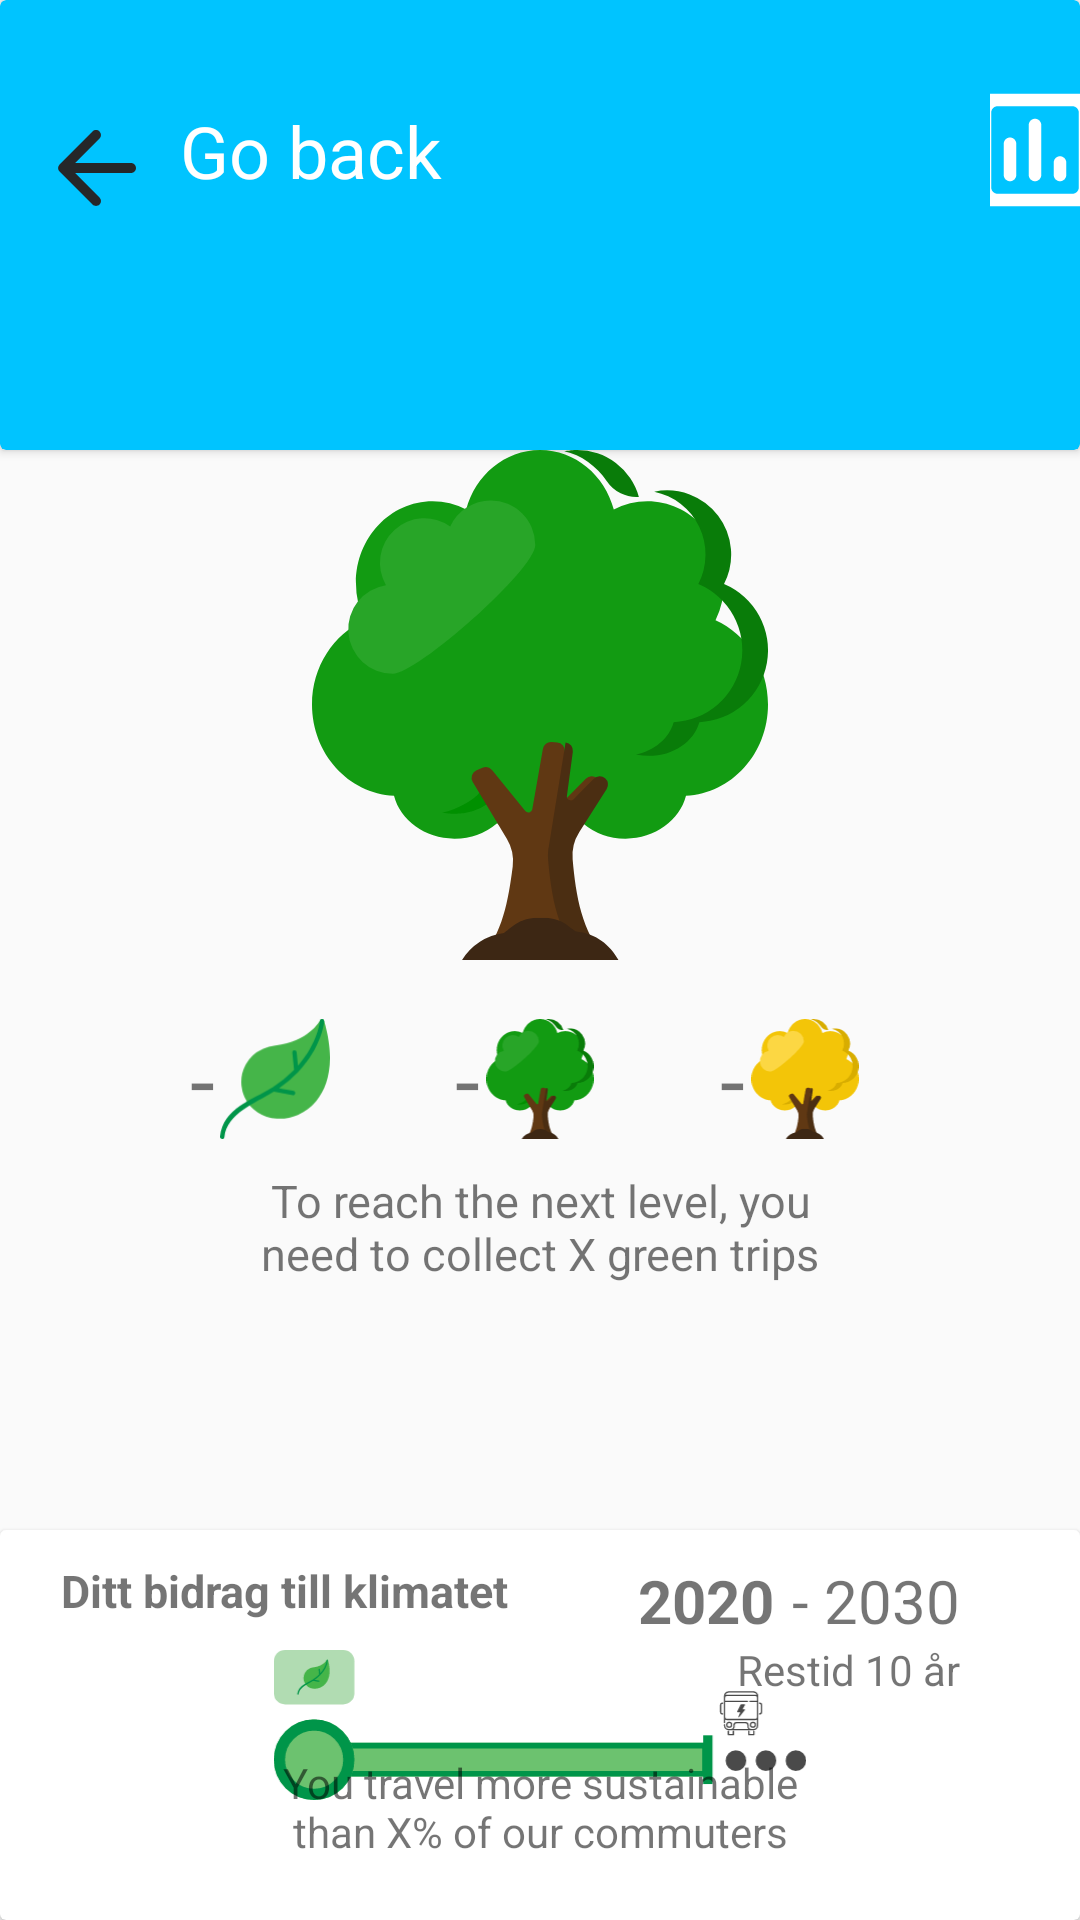

Icons on this 1080 x 1920 Android screen, each with the point to tap as [x,y]:
leaf: [275,1079]
stats: [1035,150]
